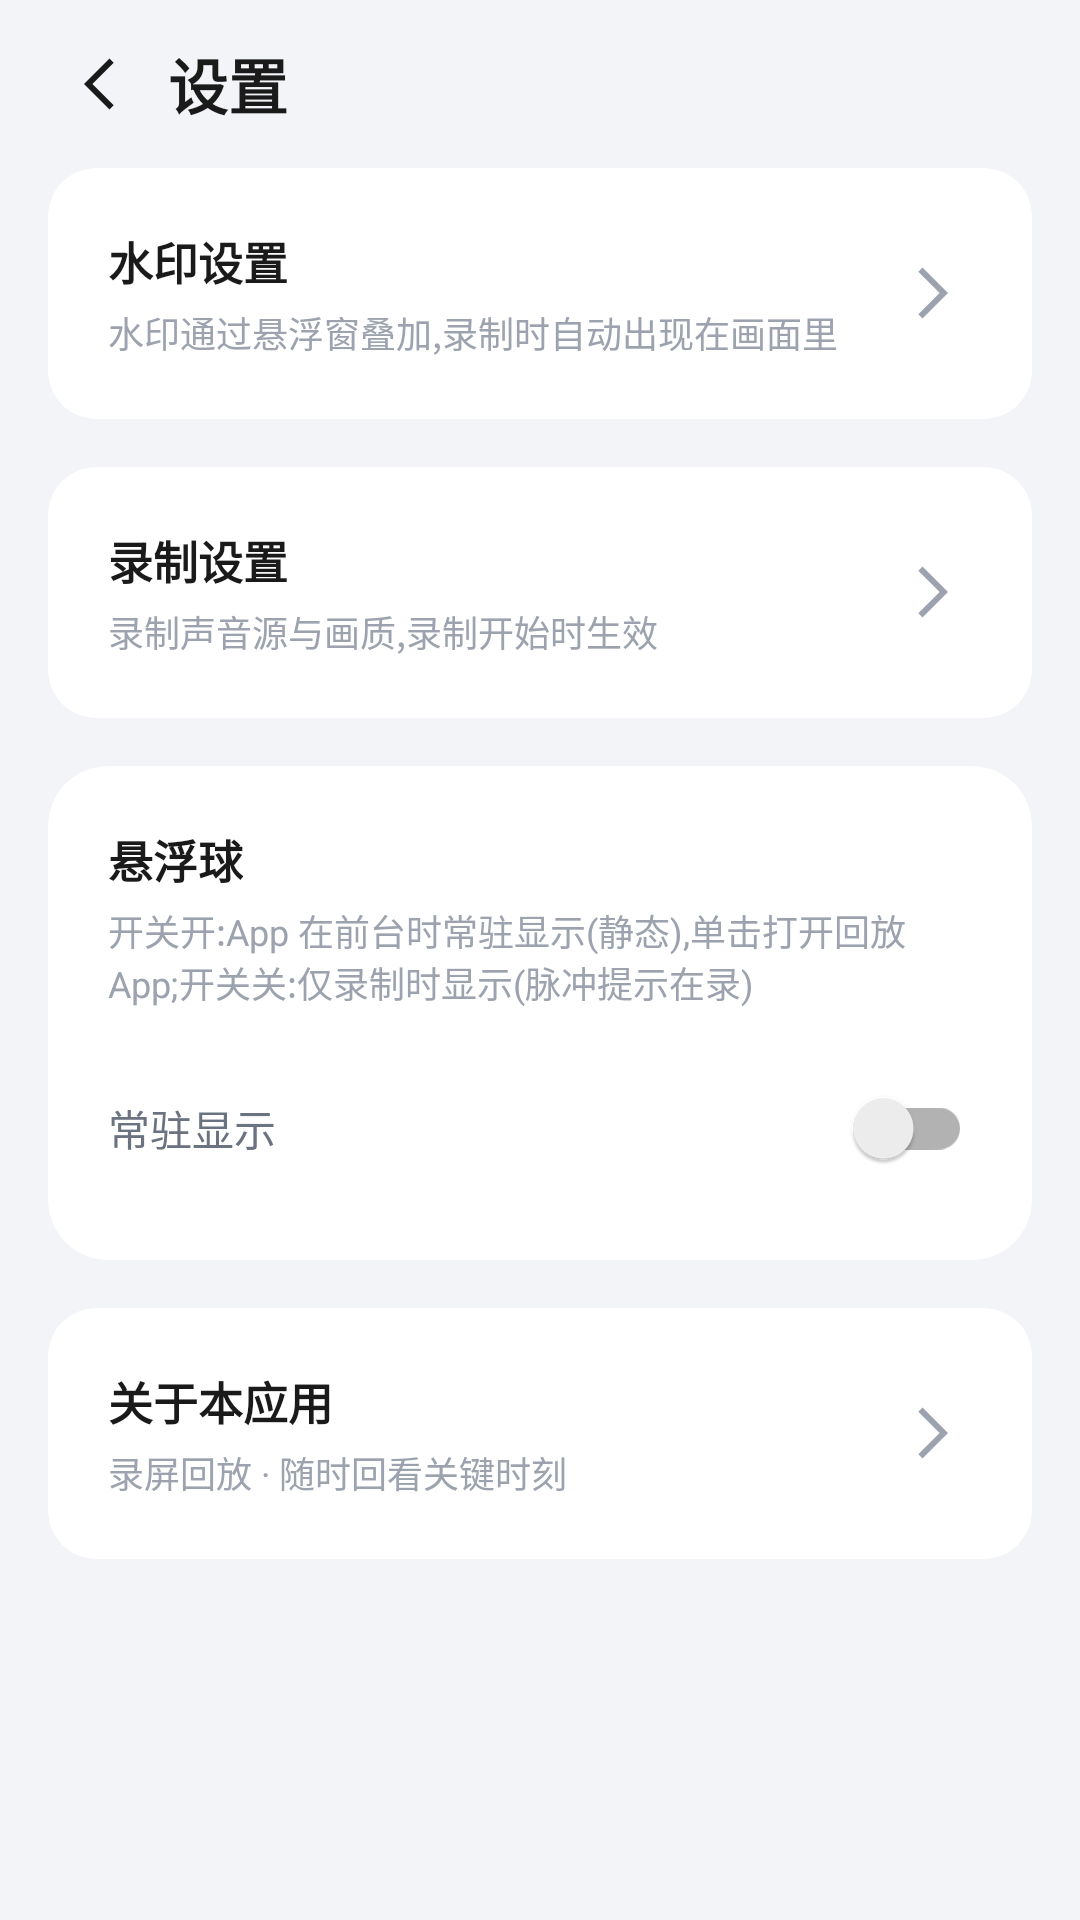

Locate icon controls on the screen. Image size 1080 x 1920, boxes as (x1, y1, x2, y2).
返回: (84, 58, 114, 110)
